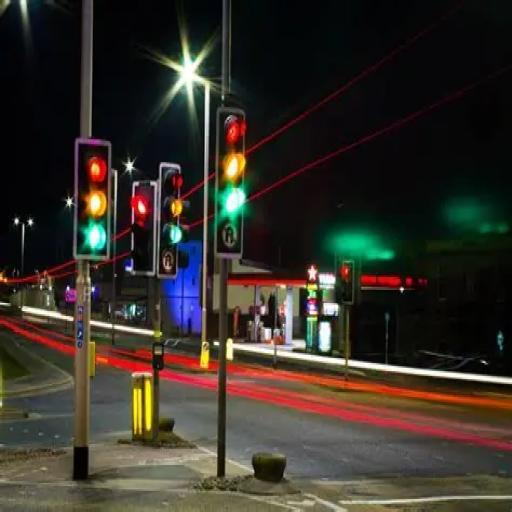traffic light: (72, 136, 112, 261), (214, 106, 245, 260), (156, 160, 182, 279), (130, 178, 156, 276), (337, 259, 354, 305)
